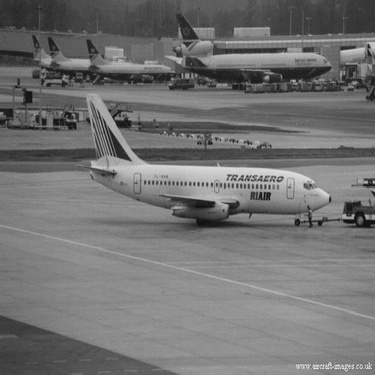airplane: (42, 83, 352, 247), (161, 12, 337, 85), (78, 27, 174, 74), (46, 27, 101, 74), (19, 27, 56, 76)
